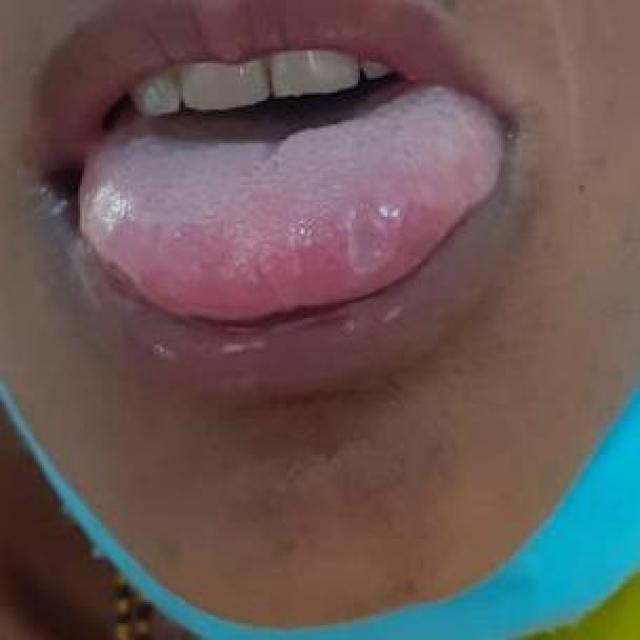leukoplakia-detection: (310, 178, 436, 304)
processing_area: (77, 77, 509, 320)
